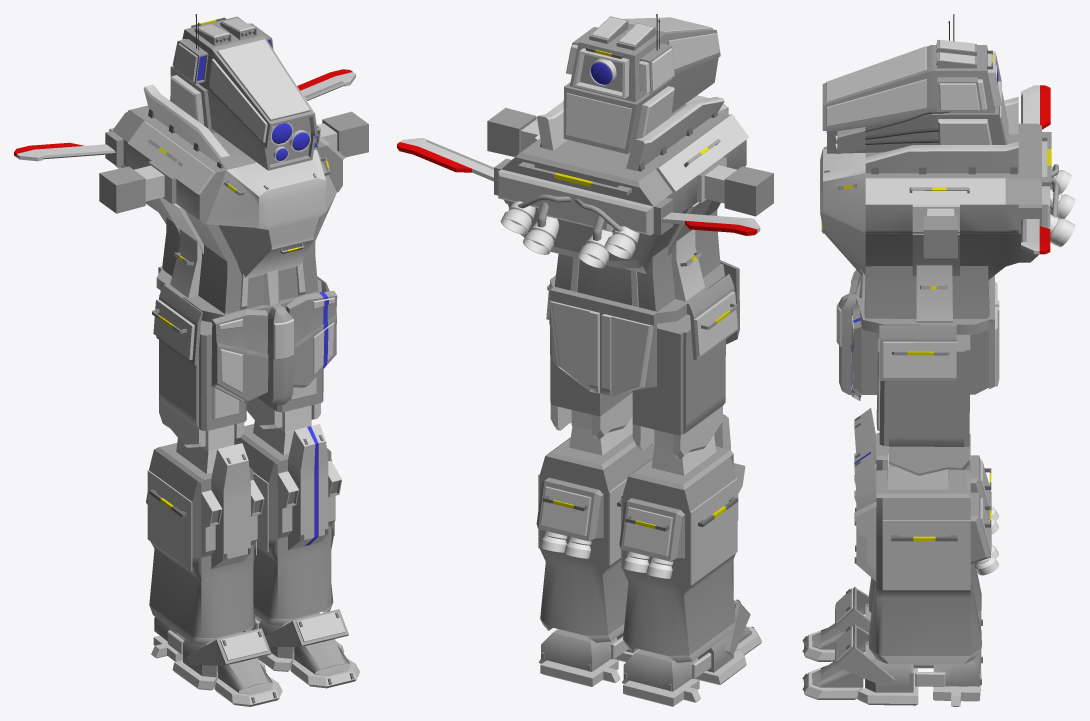
The model's file is No_Arms_New_testModel.fbx.
The picture shows the model from 3 angles, left to right: view 1: azimuth 30°, elevation 25°; view 2: azimuth 150°, elevation 25°; view 3: azimuth 270°, elevation 25°; orthographic projection. The views are drawn at different scales.
Visible parts, largest first — view 1: Head5; view 2: Head5; view 3: Head5.
Part boxes in pixels (bbox=[...]): Head5: bbox=[14, 14, 368, 706]; Head5: bbox=[397, 14, 773, 706]; Head5: bbox=[802, 14, 1075, 706].
Size of the model in its own units: 6.83 by 12.35 by 4.76.
